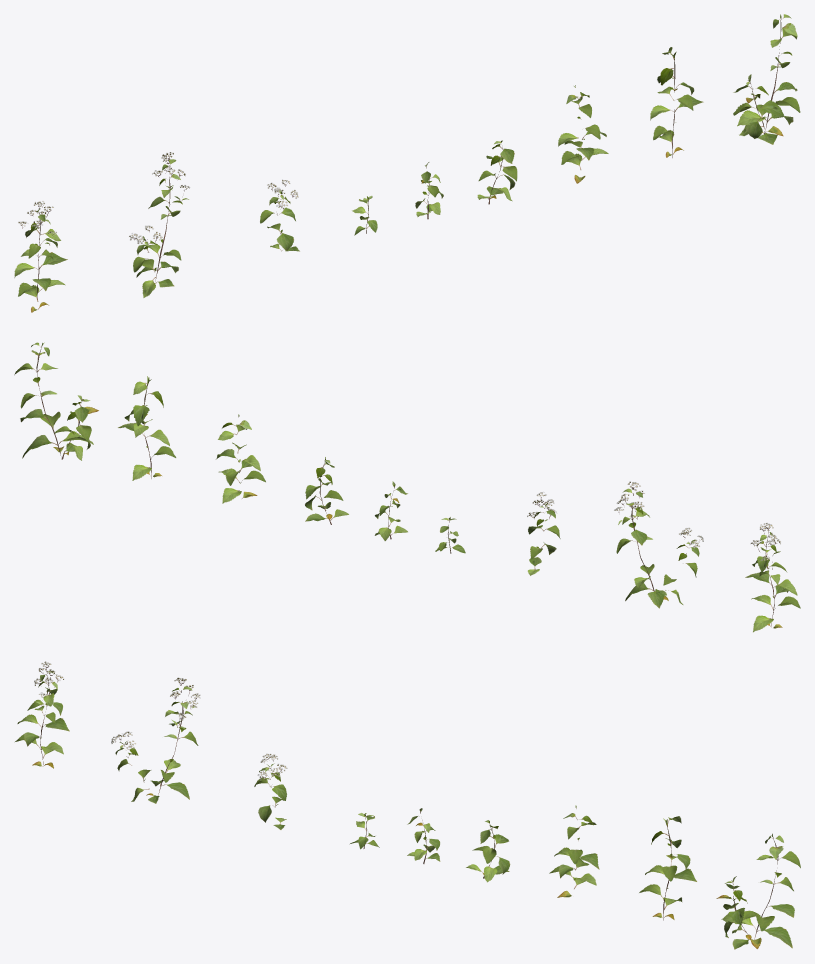
The model's file is shrub_01.glb.
3 renders of one model, top to bottom at view 1: azimuth 30°, elevation 25°; view 2: azimuth 150°, elevation 25°; view 3: azimuth 330°, elevation 25°, orthographic. The views are drawn at different scales.
Parts seen in each view (by area): view 1: shrub_01_a; view 2: shrub_01_a; view 3: shrub_01_a.
Part boxes in pixels (x1,y1,x2,y2): shrub_01_a: (14,14,800,312); shrub_01_a: (14,342,800,632); shrub_01_a: (15,661,800,949).
Size of the model in its own units: 6.54 by 0.9999 by 0.5041.
1 material, 1 textured.
